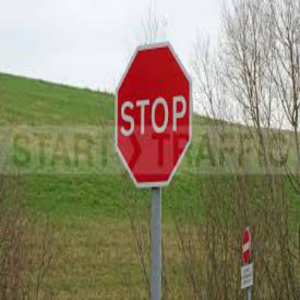STOP_SIGN: (114, 41, 193, 187)
